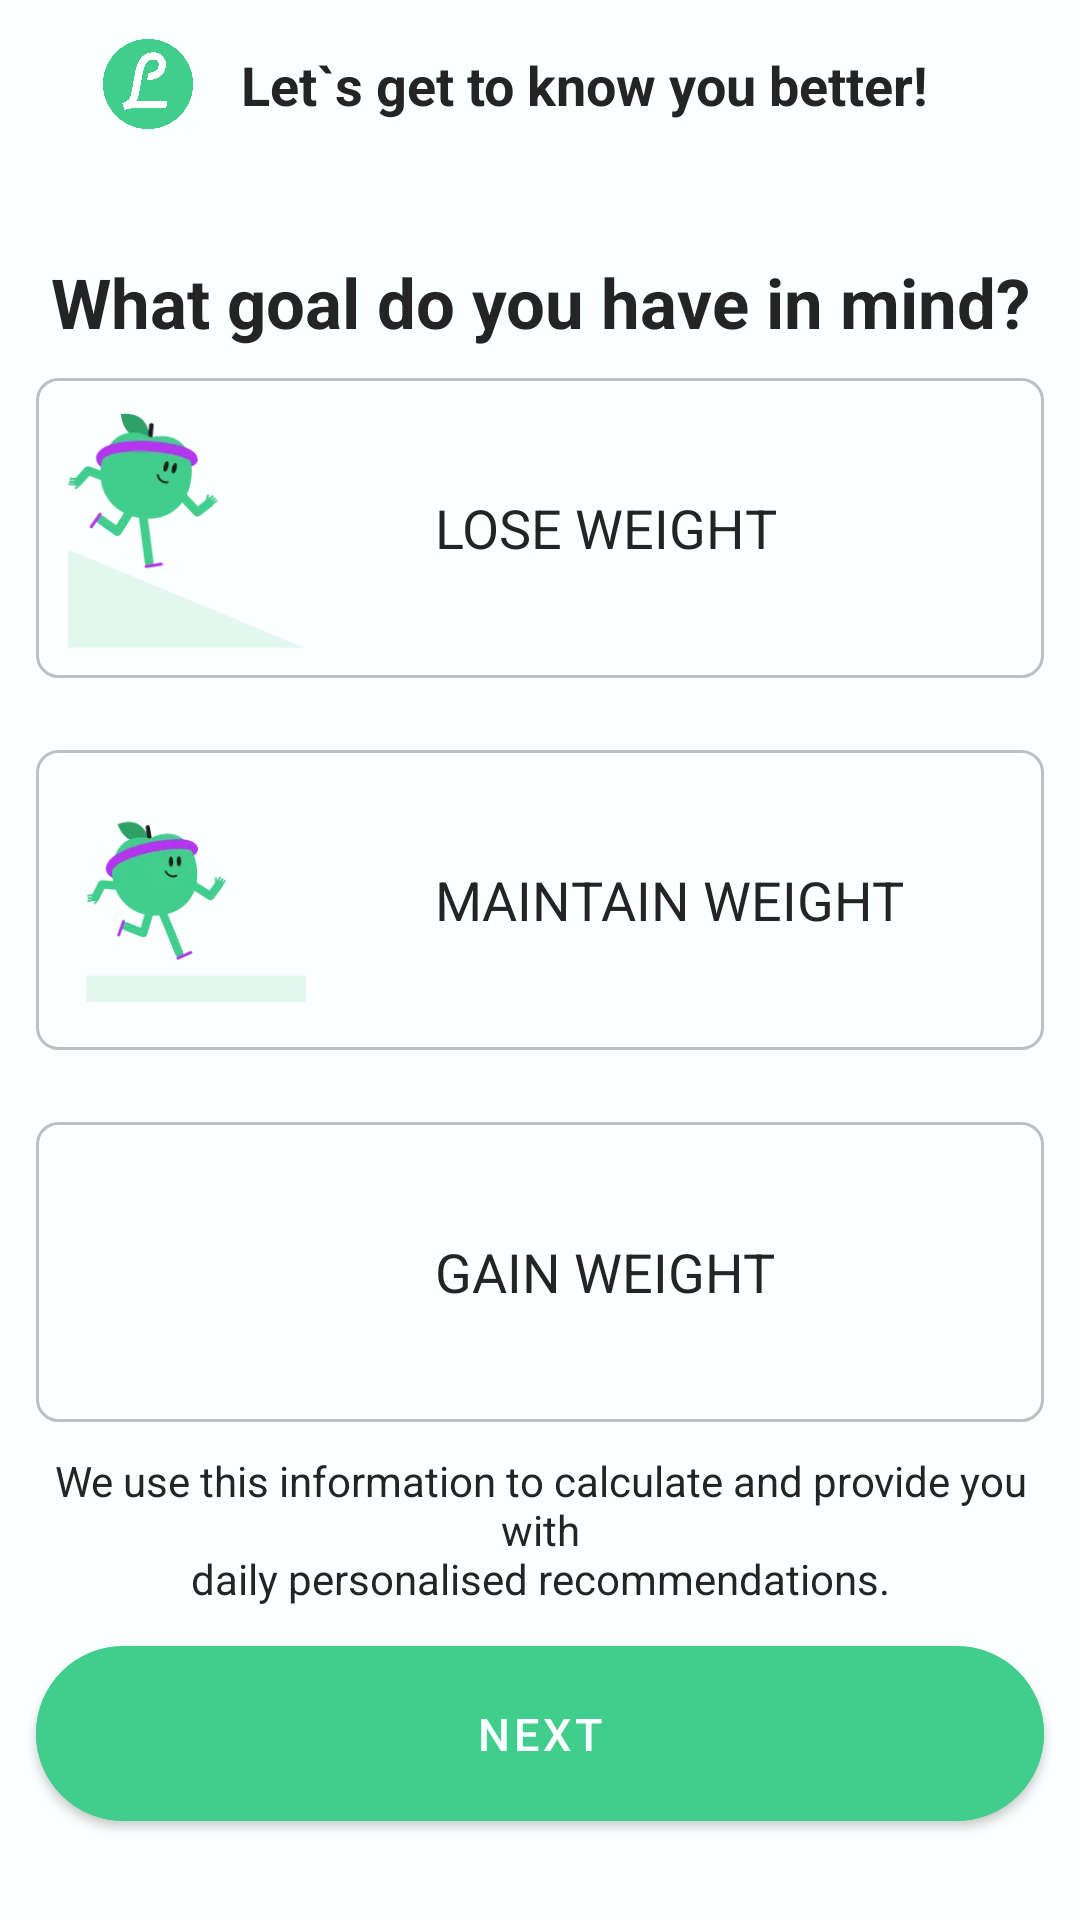

Icons on this 1080 × 1920 Android screen, each with its box as (x1, y1, x2, y2):
illustration loose: (68, 413, 296, 647)
illustration maintain: (87, 821, 306, 1002)
